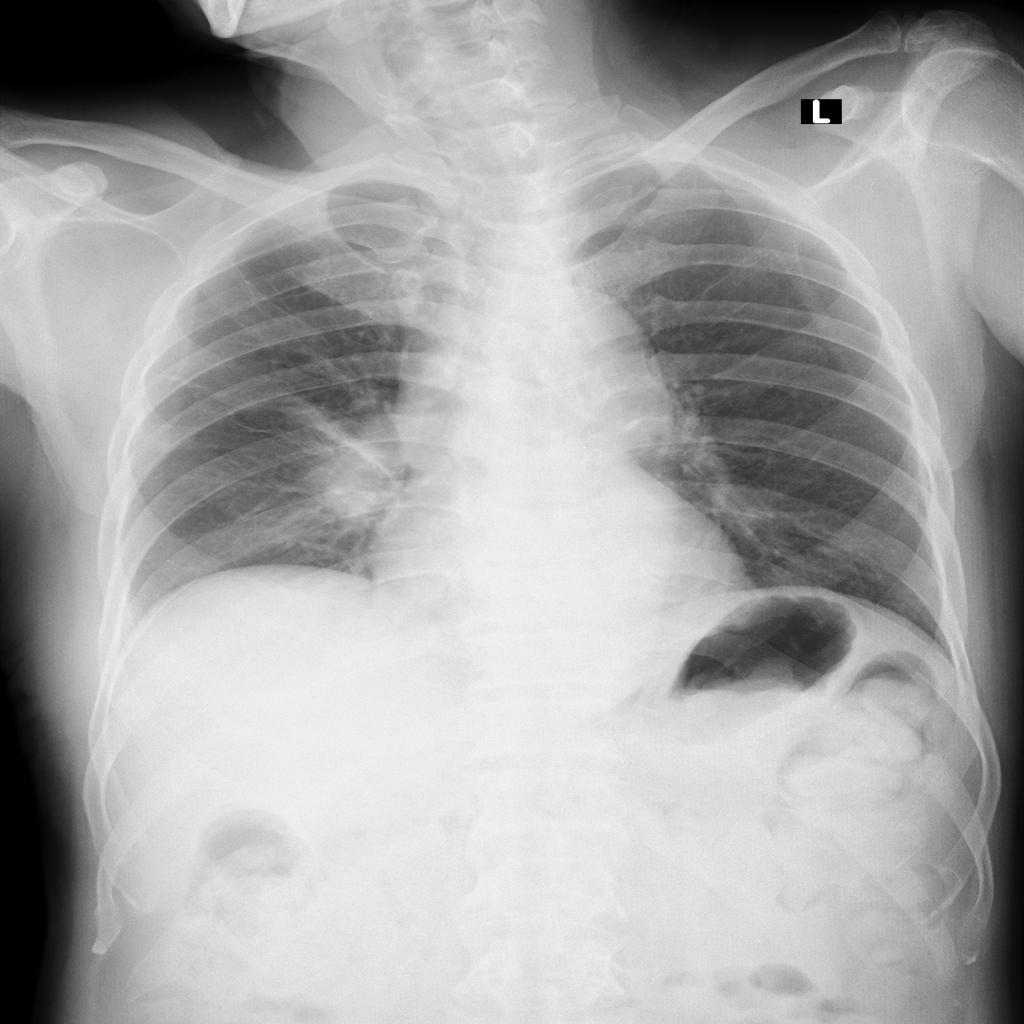Nodule: (325, 424, 413, 528)
